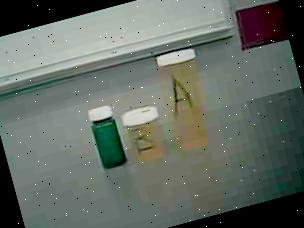Bottle A: (151, 40, 223, 157)
Bottle B: (118, 102, 173, 168)
Bottle C: (80, 100, 130, 176)
